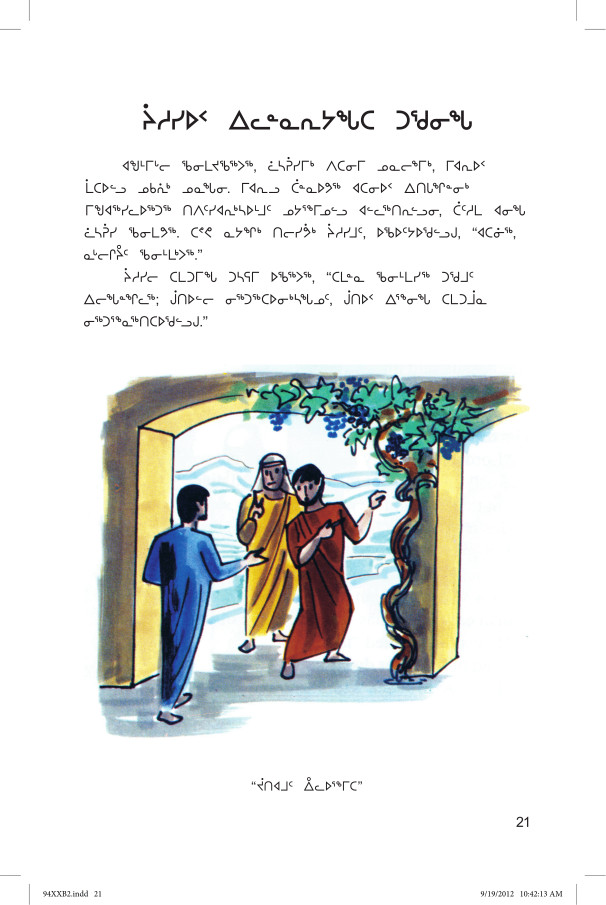inuktitut: (81, 152, 532, 334), (133, 97, 476, 135), (243, 768, 367, 797)
